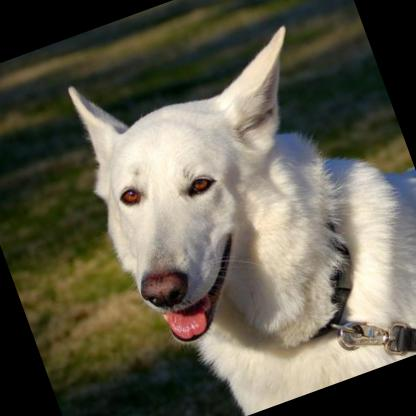German_shepherd: (52, 0, 416, 416)
